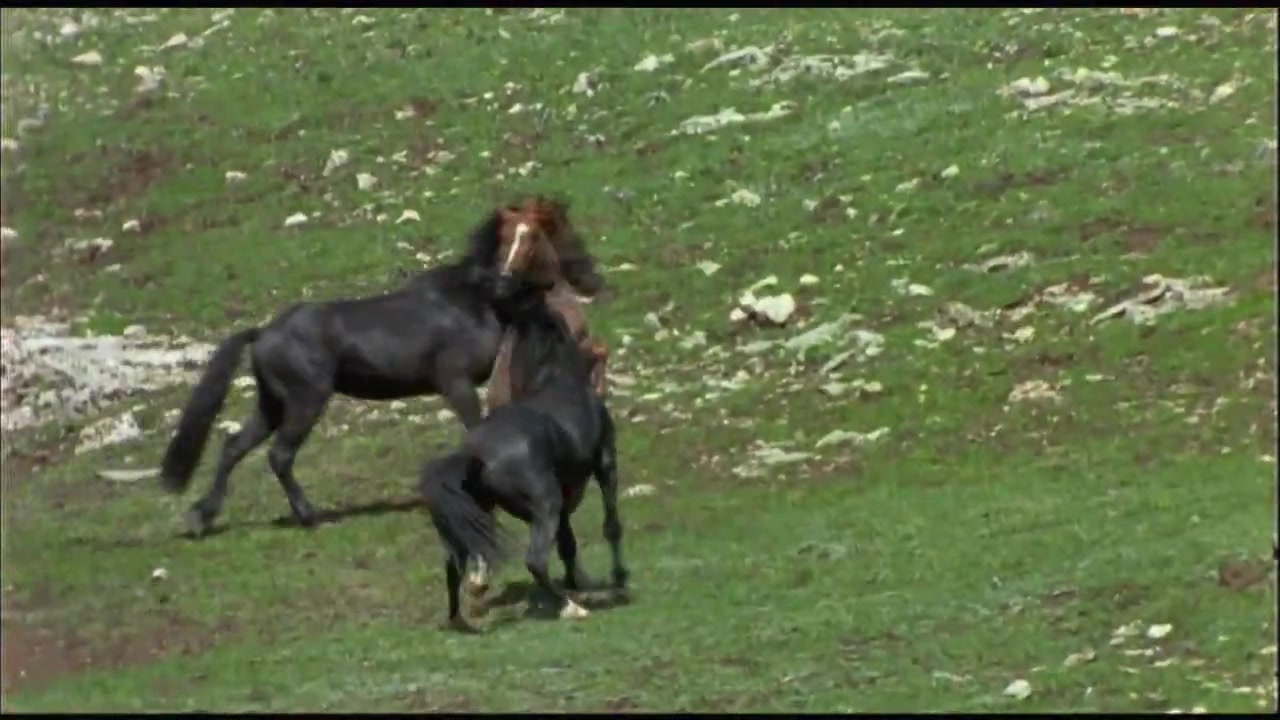horse: (161, 194, 606, 541)
